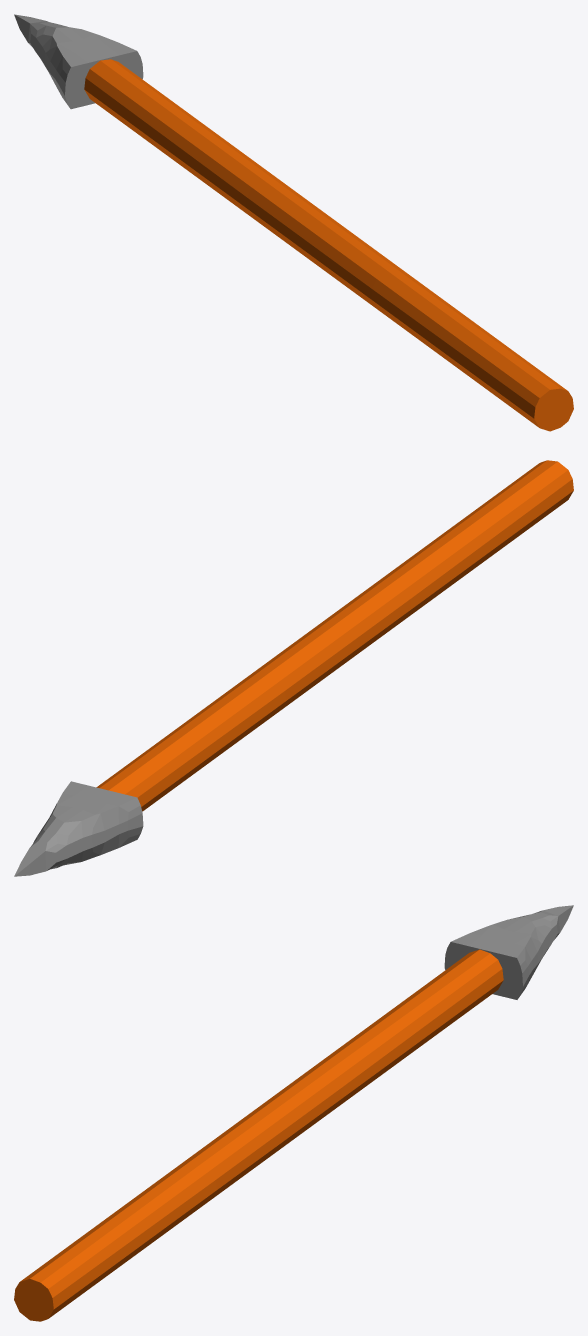
The model's file is Arrow.fbx.
3 views of the same model, one above another, from view 1: azimuth 30°, elevation 25°; view 2: azimuth 150°, elevation 25°; view 3: azimuth 330°, elevation 25° (orthographic).
Parts seen in each view (by area): view 1: ArrowBody, Arrow; view 2: ArrowBody, Arrow; view 3: ArrowBody, Arrow.
Part boxes in pixels (x1,y1,x2,y2): ArrowBody: [84, 59, 573, 431]; Arrow: [14, 14, 143, 109]; ArrowBody: [96, 460, 573, 811]; Arrow: [14, 781, 143, 876]; ArrowBody: [14, 949, 503, 1321]; Arrow: [444, 905, 573, 999].
Bounding box in the file's own units: 40.21 × 20.66 × 479.
